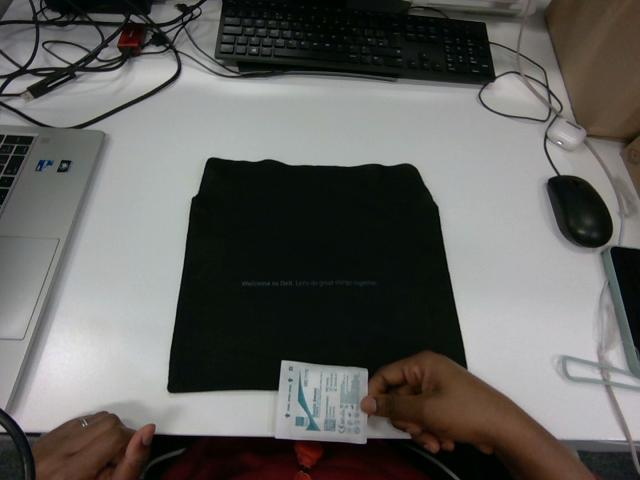gauze: (275, 360, 367, 443)
